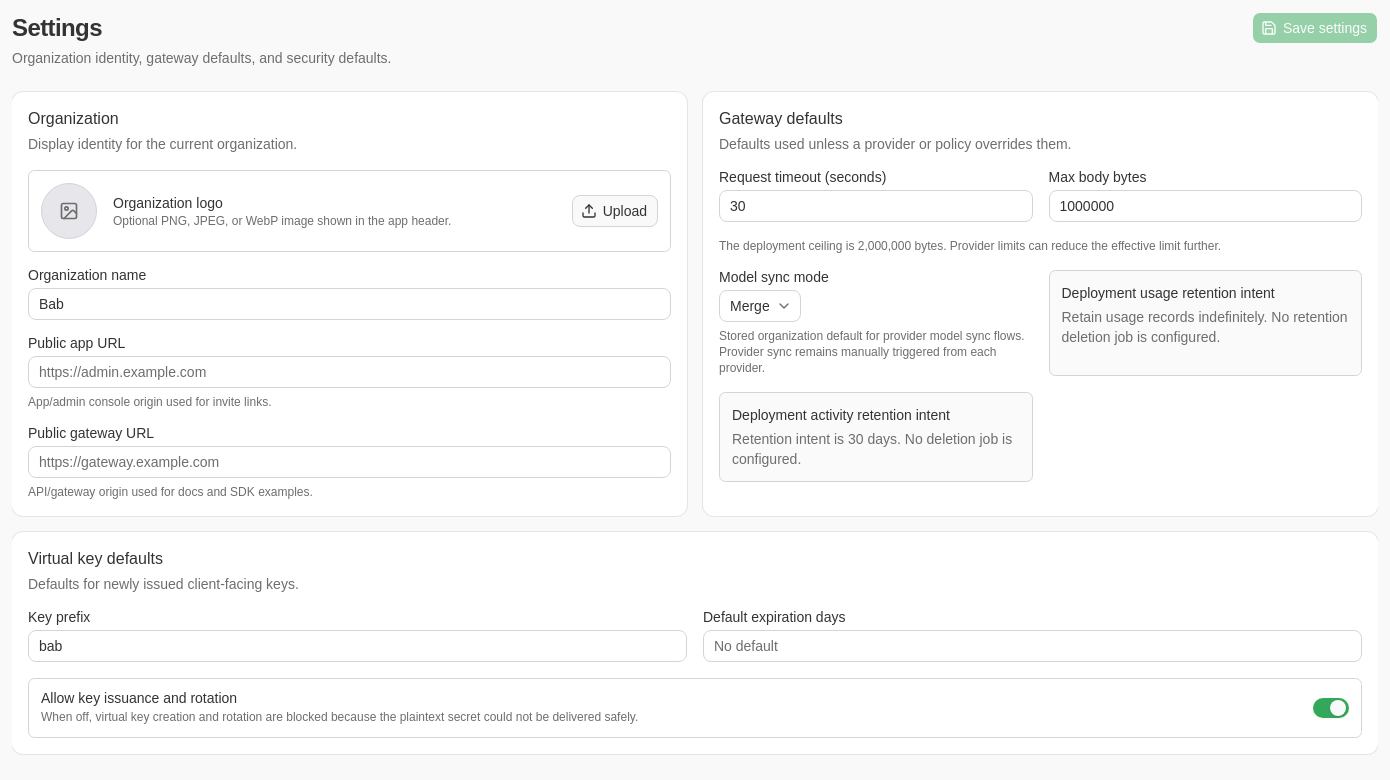
Test: SettingsPage › blocks values above the deployment ceiling and discards dirty values
This screenshot has width=1390, height=780.
Replace the text in the number field labelled "Max body bytes" with "3000000" at [1205, 206], box x1=1048 y1=190 x2=1362 y2=222
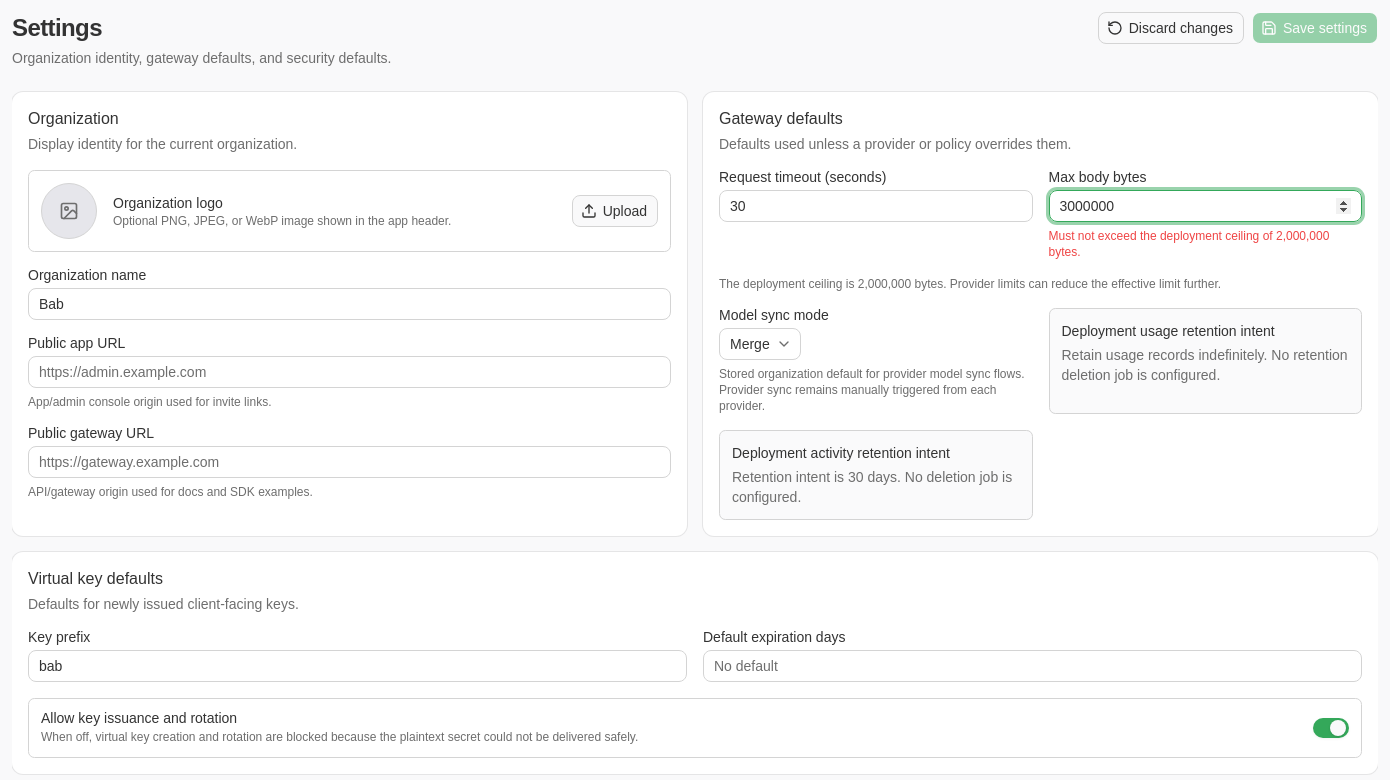
Expected: the button "Save settings" is disabled, x1=1252 y1=12 x2=1378 y2=44
Expected: the text "Must not exceed the deployment ceiling of 2,000,000 bytes." is shown, x1=1048 y1=228 x2=1362 y2=260
Click the button "Discard changes" at [1171, 28], box x1=1098 y1=12 x2=1244 y2=44
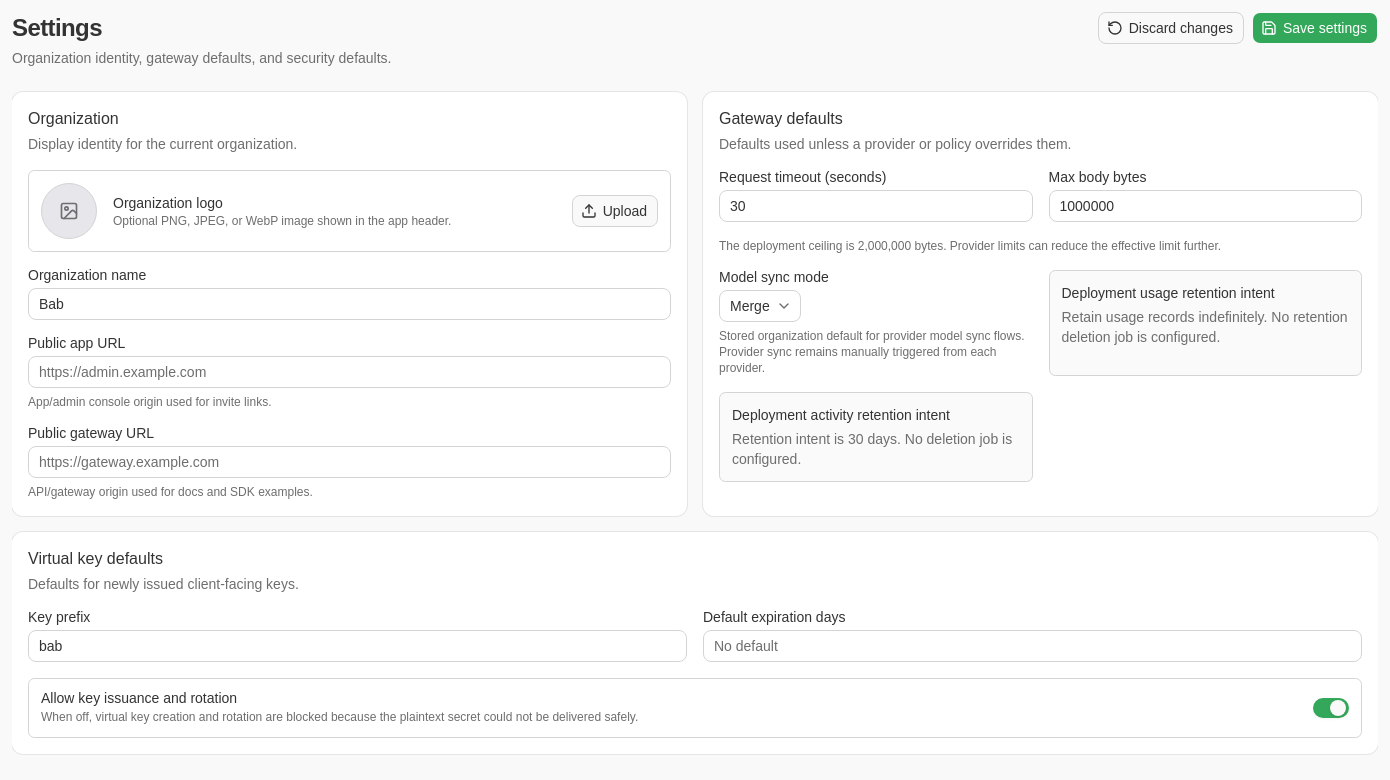
Expected: the number field labelled "Max body bytes" holds "1000000", x1=1048 y1=190 x2=1362 y2=222
